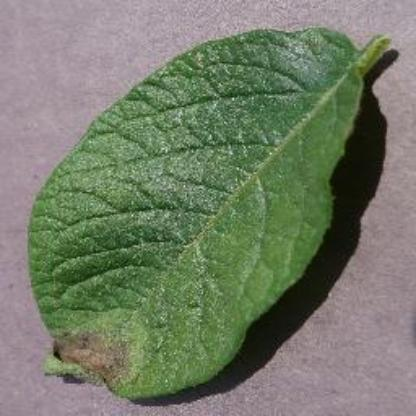Late-Blight: (29, 18, 394, 414)
